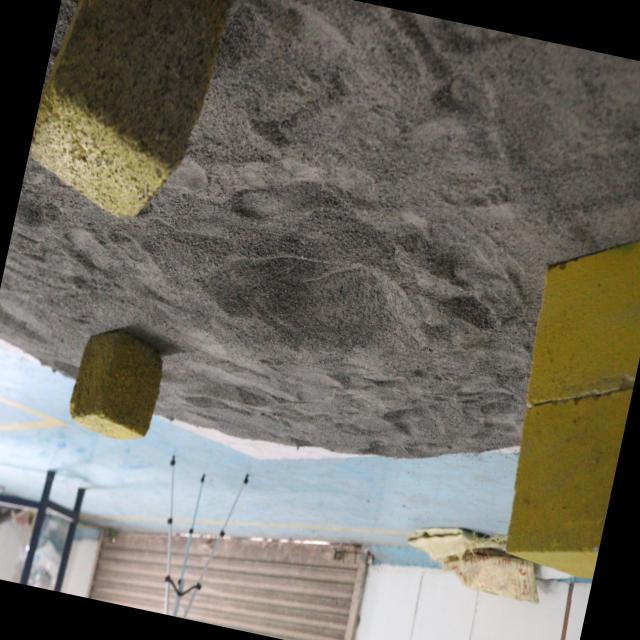box: (483, 210, 640, 595), (21, 0, 232, 236), (66, 328, 176, 452)
crater: (190, 224, 438, 390)
